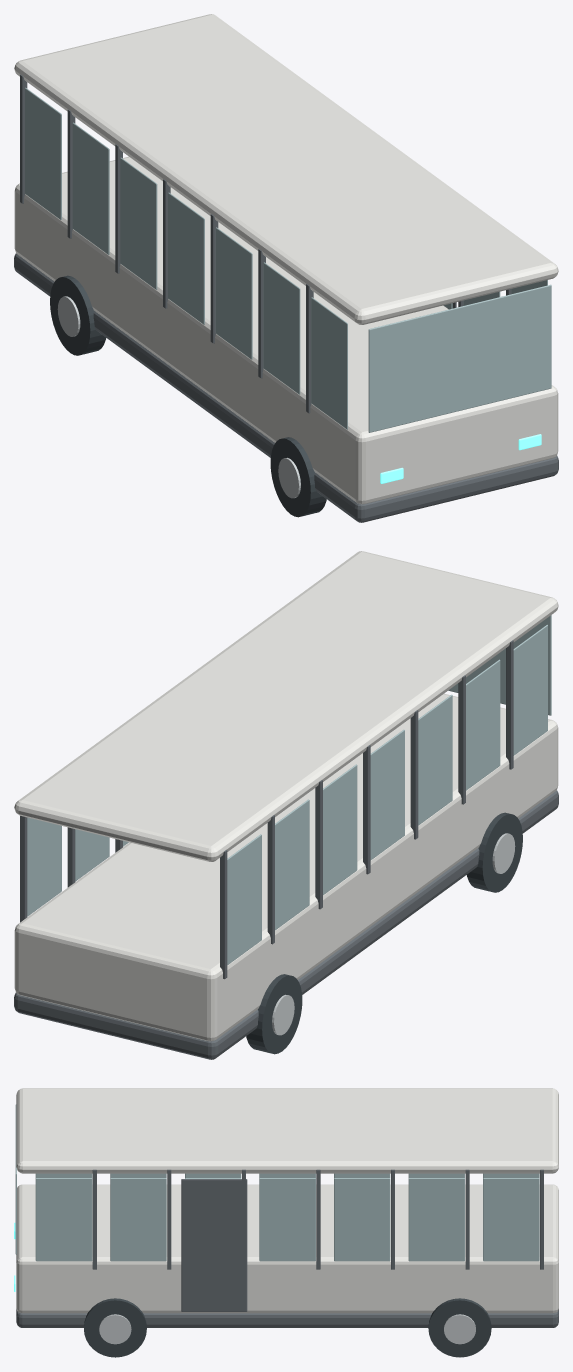
Rendered from apron-bus.glb.
3 views of the same model, one above another, from view 1: azimuth 30°, elevation 25°; view 2: azimuth 150°, elevation 25°; view 3: azimuth 270°, elevation 25° (orthographic). The views are drawn at different scales.
Parts seen in each view (by area): view 1: Roof, LowerBody, Windscreen, BusChassis, Window-12, Window-15, Window-11, Window-14, Window-10, Window-13, Window-16, Tyre-12.35 (+10 smaller); view 2: Roof, LowerBody, BusChassis, Window-16, Window-11, Window-13, Window-10, Window-14, Window-15, Window-12, Window10, Tyre-1-2.35 (+13 smaller); view 3: Roof, LowerBody, Door, BusChassis, Window16, Window10, Window11, Window12, Window13, Window15, Tyre1-2.35, Tyre12.35 (+9 smaller).
Part boxes in pixels (x1,y1,x2,y2): Roof: (14, 14, 558, 324); LowerBody: (14, 156, 558, 504); Windscreen: (368, 284, 551, 432); BusChassis: (14, 253, 558, 522); Window-12: (120, 157, 157, 289); Window-15: (263, 262, 300, 394); Window-11: (72, 122, 109, 254); Window-14: (215, 227, 252, 359); Window-10: (25, 87, 61, 219); Window-13: (168, 192, 204, 324); Window-16: (311, 297, 347, 429); Tyre-12.35: (270, 437, 326, 517); Roof: (14, 551, 558, 861); LowerBody: (14, 693, 558, 1041); BusChassis: (14, 790, 558, 1059); Window-16: (513, 624, 547, 755); Window-11: (275, 799, 309, 930); Window-13: (370, 729, 404, 860); Window-10: (227, 834, 261, 965); Window-14: (418, 694, 452, 825); Window-15: (466, 659, 500, 790); Window-12: (323, 764, 357, 895); Window10: (27, 817, 61, 916); Tyre-1-2.35: (246, 974, 302, 1054); Roof: (16, 1088, 558, 1173); LowerBody: (16, 1184, 558, 1313); Door: (181, 1179, 247, 1311); BusChassis: (16, 1309, 558, 1327); Window16: (35, 1178, 92, 1261); Window10: (483, 1178, 539, 1261); Window11: (408, 1178, 464, 1261); Window12: (334, 1178, 390, 1261); Window13: (259, 1178, 315, 1261); Window15: (110, 1178, 166, 1261); Tyre1-2.35: (428, 1298, 491, 1357); Tyre12.35: (84, 1298, 146, 1357).
Bounding box in the file's own units: 2.66 × 2.89 × 7.43.
